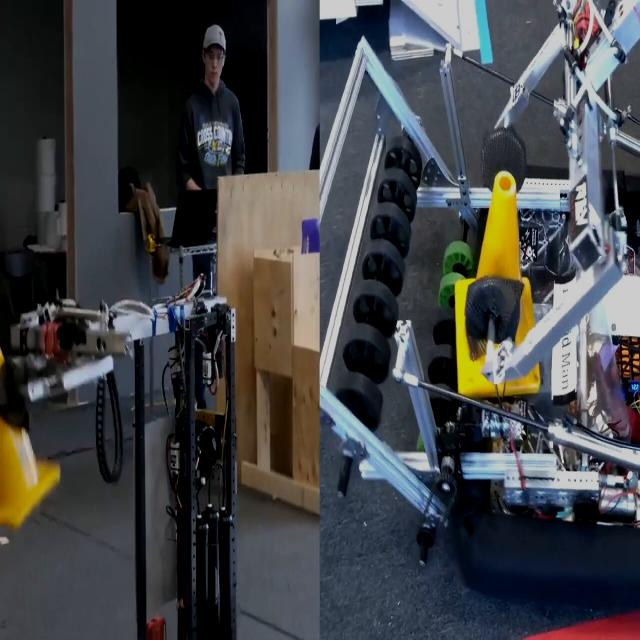frc_cone: (448, 184, 540, 400), (0, 310, 65, 523)
frc_cube: (300, 216, 320, 256)
